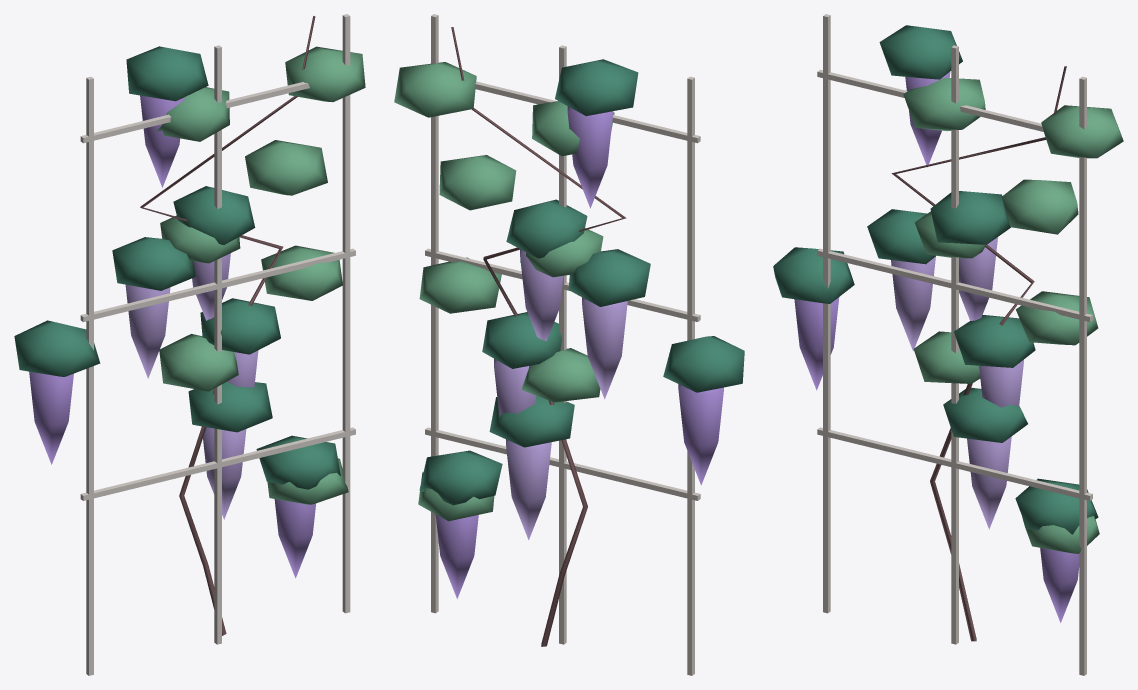
File: wisteria.glb
3 renders of one model, left to right at view 1: azimuth 30°, elevation 25°; view 2: azimuth 150°, elevation 25°; view 3: azimuth 330°, elevation 25°, orthographic.
Parts seen in each view (by area): view 1: wisteria; view 2: wisteria; view 3: wisteria.
Part boxes in pixels (<box>): wisteria: <box>14,14,365,675</box>; wisteria: <box>394,14,744,675</box>; wisteria: <box>773,14,1123,675</box>.
Size of what is drawn, in the model's own units: 2.1 by 3.5 by 0.4454.
